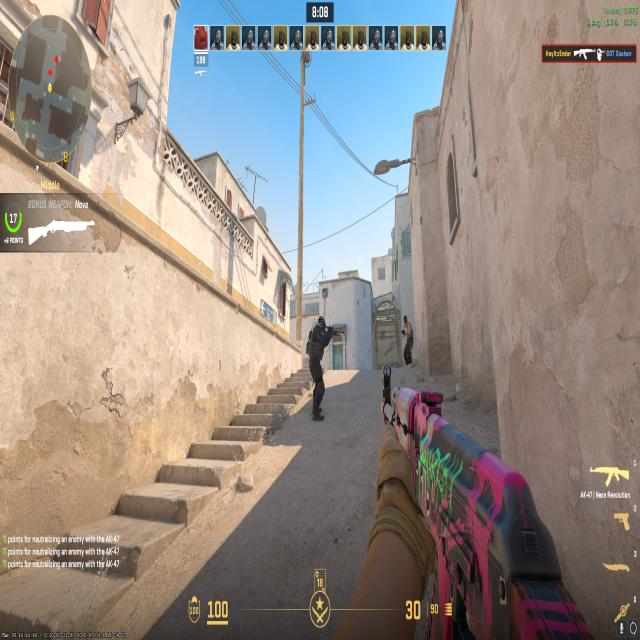ct: (304, 309, 332, 427)
t: (399, 312, 416, 367)
